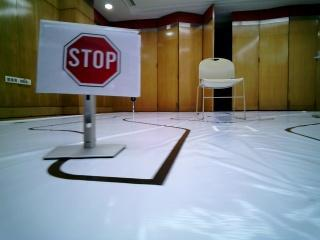stop: (49, 23, 131, 90)
